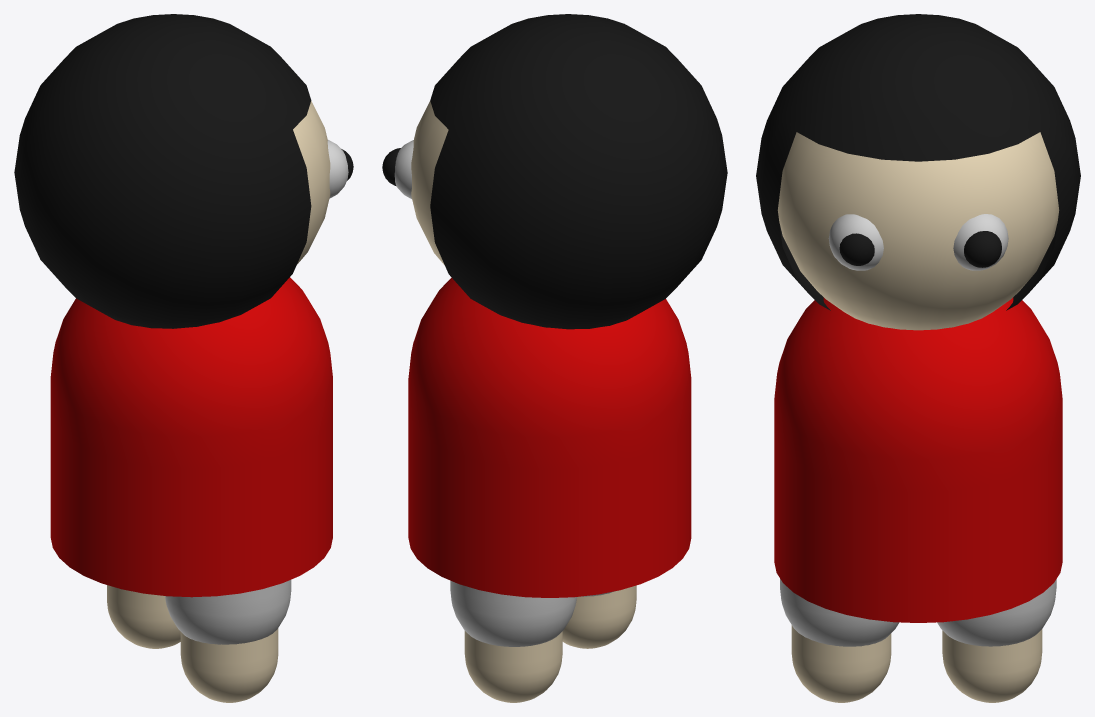
Rendered from HatBilliardsDummy.fbx.
The picture shows the model from 3 angles, left to right: view 1: azimuth 30°, elevation 25°; view 2: azimuth 150°, elevation 25°; view 3: azimuth 270°, elevation 25°; orthographic projection. The views are drawn at different scales.
Visible parts, largest first — view 1: Kapsel, Kugel_1, Kapsel_1, Kapsel_3, Kapsel_5, Kugel, Kugel_3; view 2: Kapsel, Kugel_1, Kapsel_4, Kapsel_5, Kapsel_3, Kugel, Kugel_2; view 3: Kapsel, Kugel_1, Kugel, Kapsel_3, Kapsel_5, Kapsel_1, Kapsel_4, Kugel_3, Kugel_2, Kugel_4, Kugel_5.
Part boxes in pixels (x1,y1,x2,y2): Kapsel: (50,277,332,597); Kugel_1: (14,14,311,328); Kapsel_1: (165,580,291,644); Kapsel_3: (180,628,278,702); Kapsel_5: (107,585,180,648); Kugel: (293,101,330,264); Kugel_3: (327,140,348,198); Kapsel: (408,277,691,597); Kugel_1: (430,14,727,329); Kapsel_4: (450,580,576,646); Kapsel_5: (464,631,562,702); Kapsel_3: (562,585,636,648); Kugel: (411,101,448,265); Kugel_2: (394,140,413,198); Kapsel: (774,297,1062,622); Kugel_1: (756,14,1080,310); Kugel: (777,132,1059,330); Kapsel_3: (791,625,891,702); Kapsel_5: (942,629,1042,702); Kapsel_1: (780,579,899,646); Kapsel_4: (937,579,1056,646); Kugel_3: (828,214,883,270); Kugel_2: (953,214,1008,270); Kugel_4: (964,231,1001,267); Kugel_5: (839,233,874,265).
Bounding box in the file's own units: 118 × 253 × 113.
